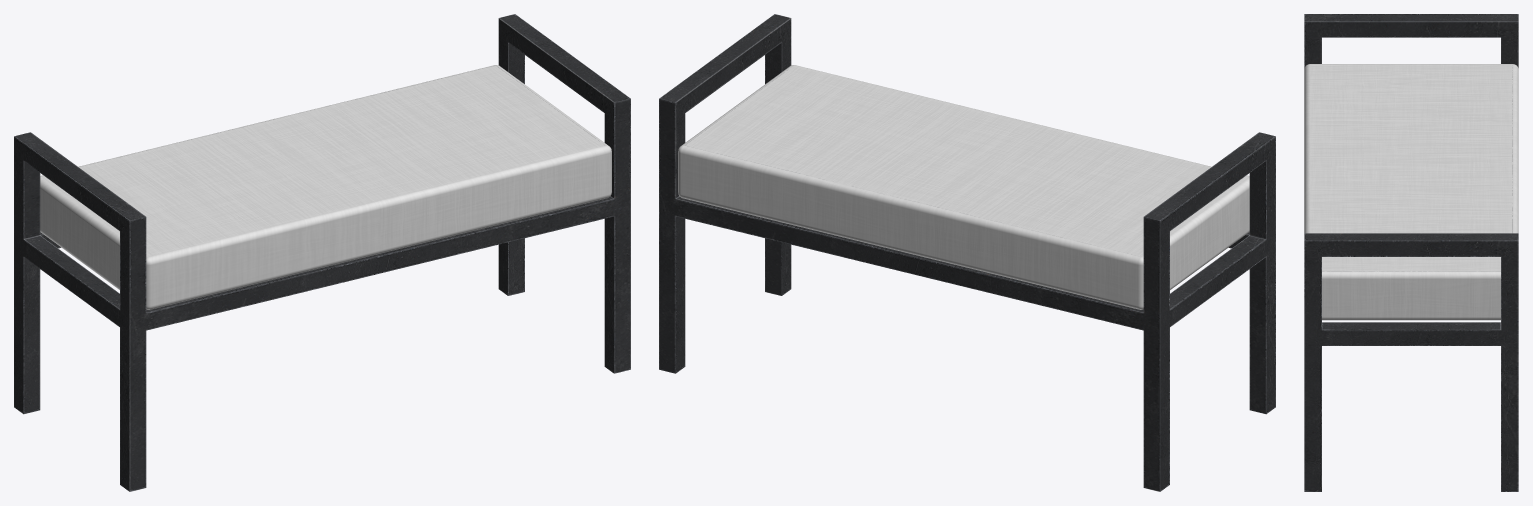
Rendered from Window Bench.fbx.
The picture shows the model from 3 angles, left to right: view 1: azimuth 30°, elevation 25°; view 2: azimuth 150°, elevation 25°; view 3: azimuth 270°, elevation 25°; orthographic projection. The views are drawn at different scales.
Visible parts, largest first — view 1: Window Bench; view 2: Window Bench; view 3: Window Bench.
Boxes of the visible parts, bbox=[...] form: Window Bench: bbox=[14, 14, 630, 491]; Window Bench: bbox=[659, 14, 1275, 491]; Window Bench: bbox=[1304, 14, 1518, 491].
Size of the model in its own units: 600 by 310 by 240.
